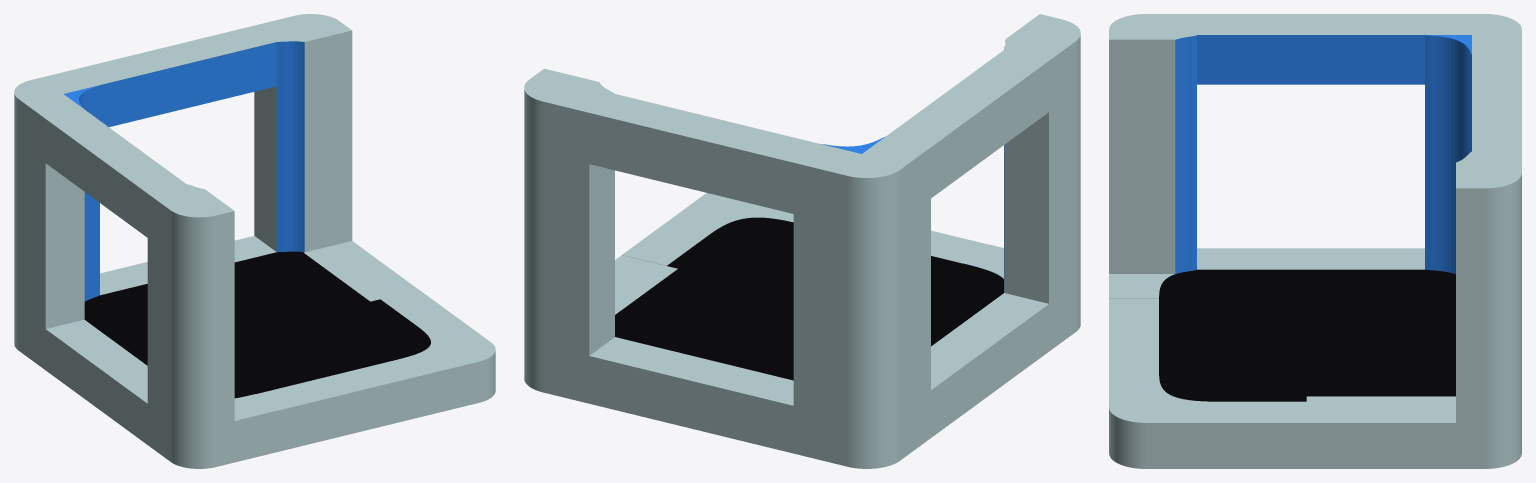
Rendered from nuppgin5.glb.
3 renders of one model, left to right at view 1: azimuth 30°, elevation 25°; view 2: azimuth 150°, elevation 25°; view 3: azimuth 270°, elevation 25°, orthographic. The views are drawn at different scales.
Visible parts, largest first — view 1: Cube.004; view 2: Cube.004; view 3: Cube.004.
Boxes of the visible parts, <box> form: Cube.004: <box>14,14,495,468</box>; Cube.004: <box>524,14,1080,468</box>; Cube.004: <box>1109,14,1521,468</box>.
Size of the model in its own units: 13.8 by 10.35 by 13.8.
